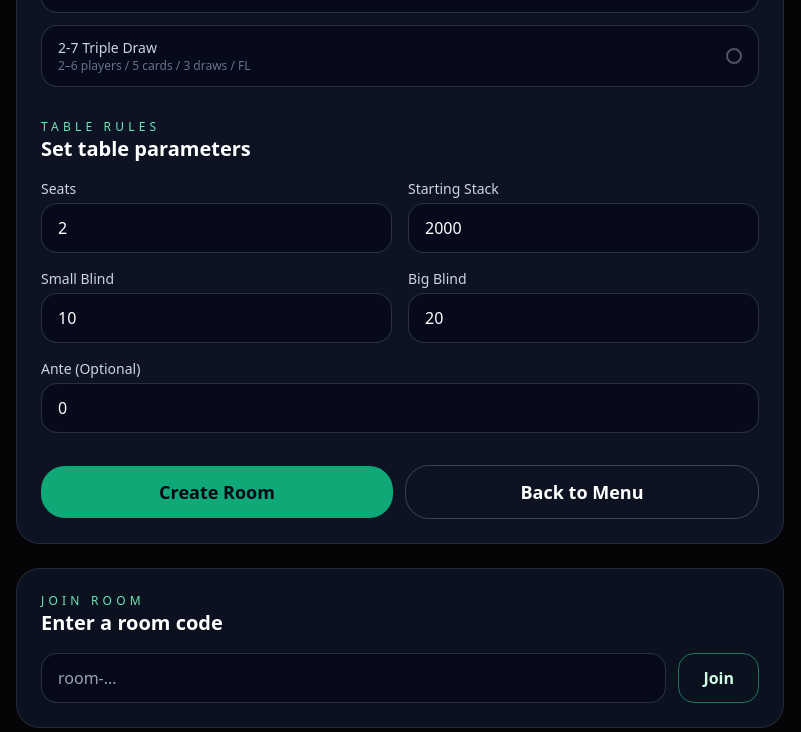
FriendMatchSetupScreen › treats an owner-closed room as terminal instead of reconnecting forever
(page scrolled)
Click the button "Create Room" at point(217, 492), box [41,466,393,518]
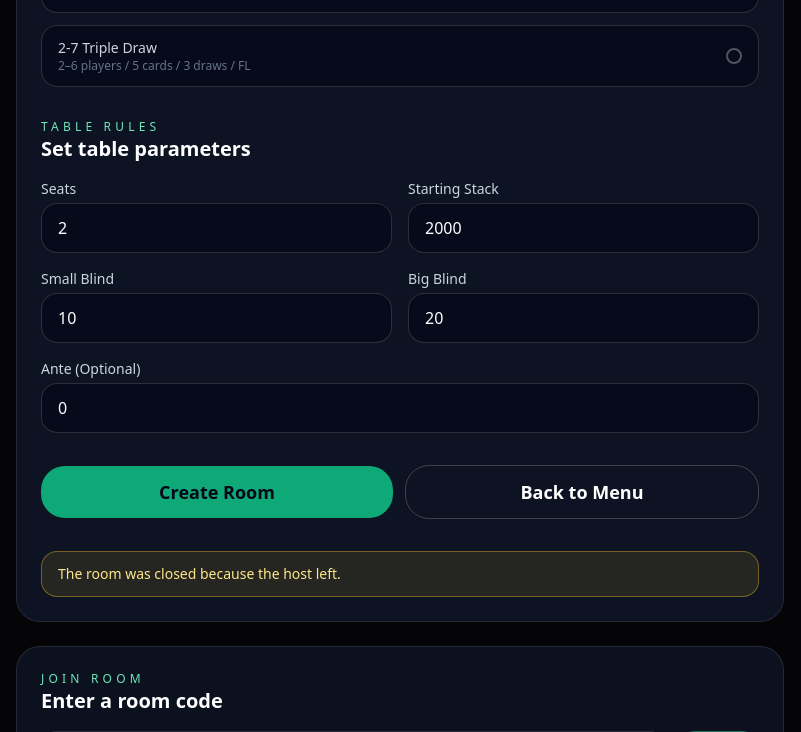
Now the text "The room was closed because the host left." is shown, box [41,551,759,597]
